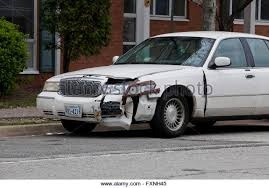Broken-glass: (181, 37, 216, 68)
Dent: (96, 76, 152, 131)
